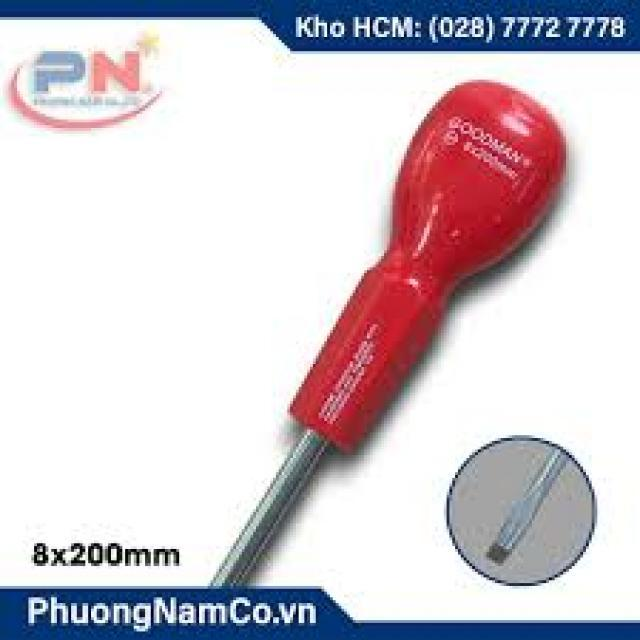screwdriver: (204, 73, 634, 588)
